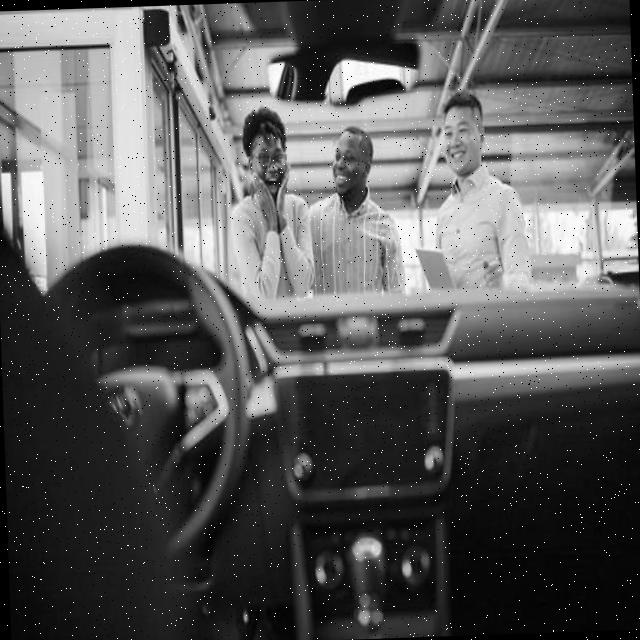Happiness: (441, 106, 482, 174), (328, 132, 369, 193)
Surprised: (253, 131, 287, 197)
